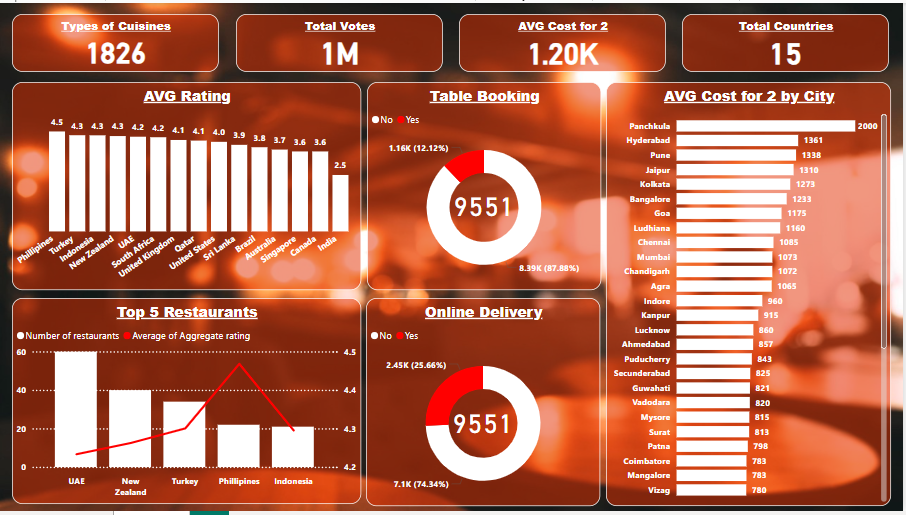

The page's visual inventory and layout, read from the dashboard file:
{"tool":"powerbi","page":{"name":"Page 1","canvas":[1280,720],"ordinal":0},"visuals":[{"type":"columnChart","title":"AVG Rating","fields":{"Category":["Sheet11.Country"],"Y":["Avg(zomato.Aggregate rating)"]},"box":[18.4,112,494.6,294.8],"z":0},{"type":"lineClusteredColumnComboChart","title":"Top 5 Restaurants","fields":{"Category":["Sheet11.Country"],"Y2":["Avg(zomato.Aggregate rating)"],"Y":["zomato.Number of restaurants"]},"box":[18.4,418.1,494.6,292],"z":1000},{"type":"donutChart","title":"Table Booking","fields":{"Y":["CountNonNull(zomato.Restaurant ID)"],"Category":["zomato.Has Table booking"]},"box":[521.6,112,331.7,294.8],"z":2000},{"type":"card","title":"AVG Rating","fields":{"Values":["CountNonNull(zomato.Restaurant ID)"]},"box":[544.3,171.5,284.9,228.2],"z":3000},{"type":"donutChart","title":"Online Delivery","fields":{"Y":["CountNonNull(zomato.Restaurant ID)"],"Category":["zomato.Has Online delivery"]},"box":[520.2,418.1,331.7,294.8],"z":4000},{"type":"card","title":"AVG Rating","fields":{"Values":["CountNonNull(zomato.Restaurant ID)"]},"box":[542.8,479.1,284.9,228.2],"z":5000},{"type":"barChart","title":"AVG Cost for 2 by City","fields":{"Category":["zomato.City"],"Y":["Avg(zomato.Average Cost for two)"]},"box":[860.3,112,403.9,600.9],"z":6000},{"type":"card","title":"Types of Cuisines","fields":{"Values":["zomato.Types of cusiness"]},"box":[18.4,15.6,293.4,82.2],"z":6001},{"type":"card","title":"Total Votes","fields":{"Values":["zomato.Total Votes"]},"box":[335.9,15.6,293.4,82.2],"z":6002},{"type":"card","title":"AVG Cost for 2","fields":{"Values":["zomato.Avg cost for 2"]},"box":[652,15.6,293.4,82.2],"z":6003},{"type":"card","title":"Total Countries","fields":{"Values":["zomato.Total Countries"]},"box":[968,15.6,293.4,82.2],"z":6004}]}

Visuals, with their boxes in screenshot pixels (x1, y1, x2, y2), scaled from the page's 1280x720 canvas onto the 906x515 screenshot:
"AVG Rating" columnChart: (13, 80, 363, 291)
"Top 5 Restaurants" lineClusteredColumnComboChart: (13, 299, 363, 508)
"Table Booking" donutChart: (369, 80, 604, 291)
"AVG Rating" card: (385, 123, 587, 286)
"Online Delivery" donutChart: (368, 299, 603, 510)
"AVG Rating" card: (384, 343, 586, 506)
"AVG Cost for 2 by City" barChart: (609, 80, 895, 510)
"Types of Cuisines" card: (13, 11, 221, 70)
"Total Votes" card: (238, 11, 445, 70)
"AVG Cost for 2" card: (461, 11, 669, 70)
"Total Countries" card: (685, 11, 893, 70)
